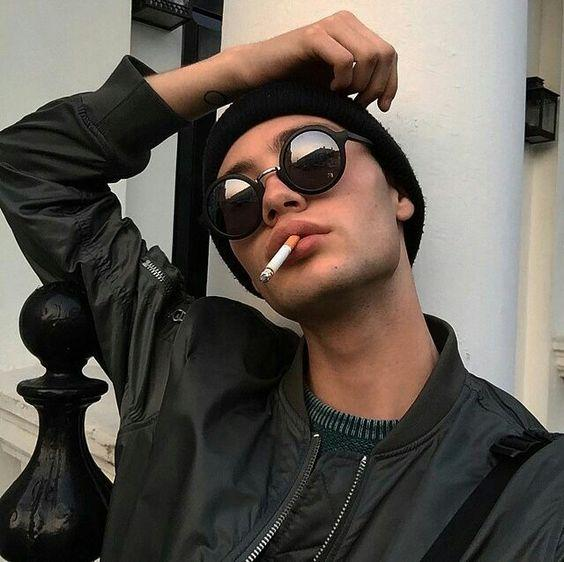cigarette: (260, 234, 303, 284)
